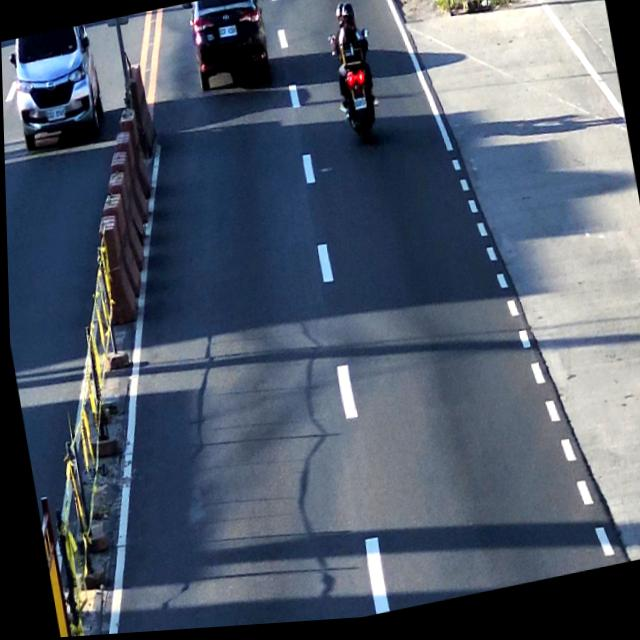Car: (183, 0, 276, 100)
License-Plate: (214, 24, 240, 43), (352, 98, 370, 117)
Motorcycle: (322, 6, 381, 148)
